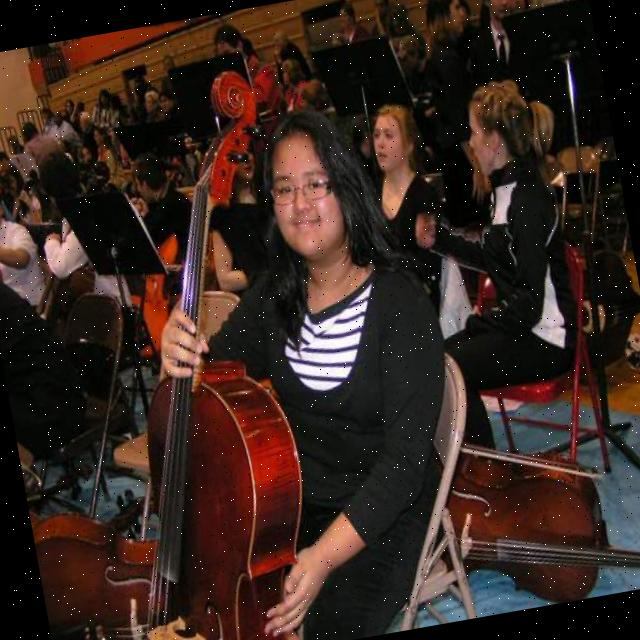cello: (51, 66, 352, 640), (401, 412, 640, 623), (30, 493, 210, 640)
